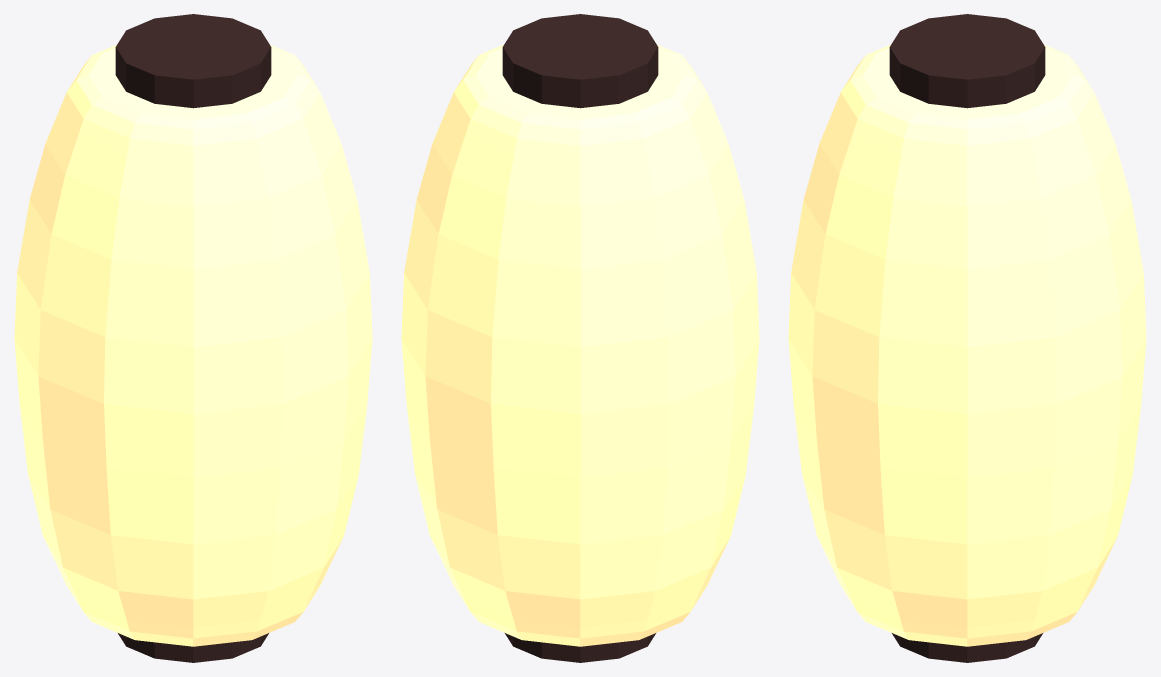
Rendered from lampe.fbx.
3 views of the same model, side by side, from view 1: azimuth 30°, elevation 25°; view 2: azimuth 150°, elevation 25°; view 3: azimuth 270°, elevation 25° (orthographic).
Visible parts, largest first — view 1: lampe_jap; view 2: lampe_jap; view 3: lampe_jap.
Part boxes in pixels (box(x1,y1,x2,y2)): lampe_jap: box(14, 14, 372, 662); lampe_jap: box(401, 14, 759, 662); lampe_jap: box(788, 14, 1146, 662).
Bounding box in the file's own units: 217 × 390 × 217.
